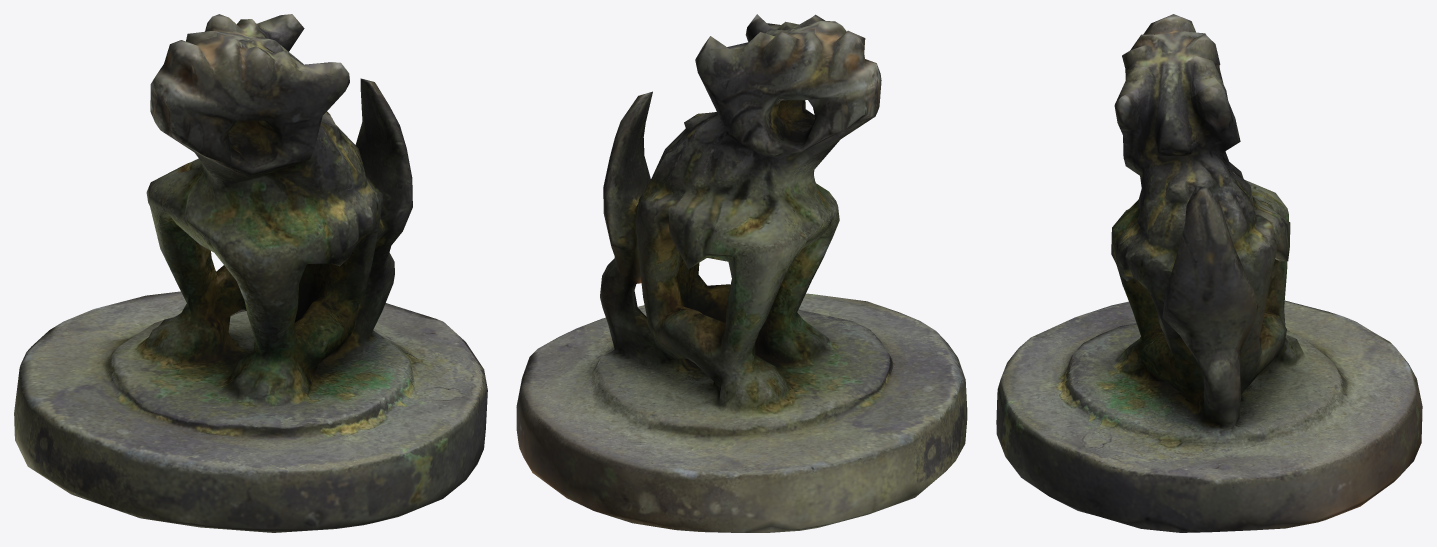
The model's file is seal.glb.
3 views of the same model, side by side, from view 1: azimuth 30°, elevation 25°; view 2: azimuth 150°, elevation 25°; view 3: azimuth 270°, elevation 25° (orthographic). The views are drawn at different scales.
Visible parts, largest first — view 1: Object_2; view 2: Object_2; view 3: Object_2.
Part boxes in pixels (x1,y1,x2,y2): Object_2: (14, 14, 487, 532); Object_2: (516, 14, 967, 532); Object_2: (996, 14, 1422, 532).
Size of the model in its own units: 0.0368 by 0.0381 by 0.0369.
1 material, 1 textured.
